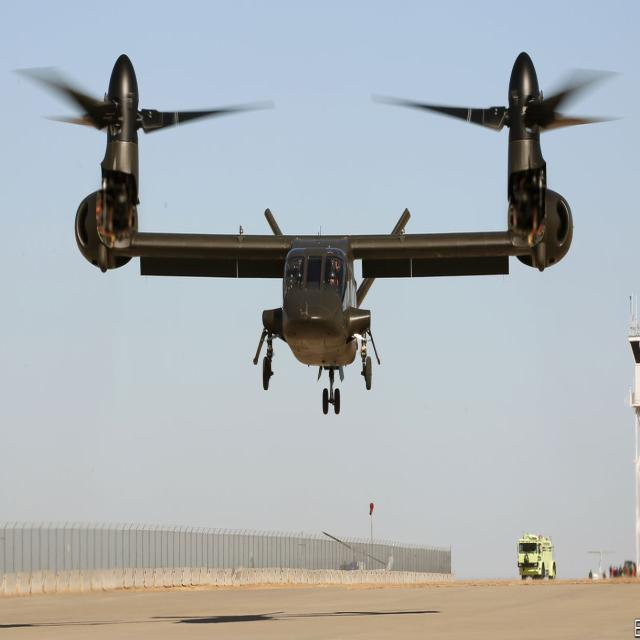helicopter: (42, 47, 579, 413)
